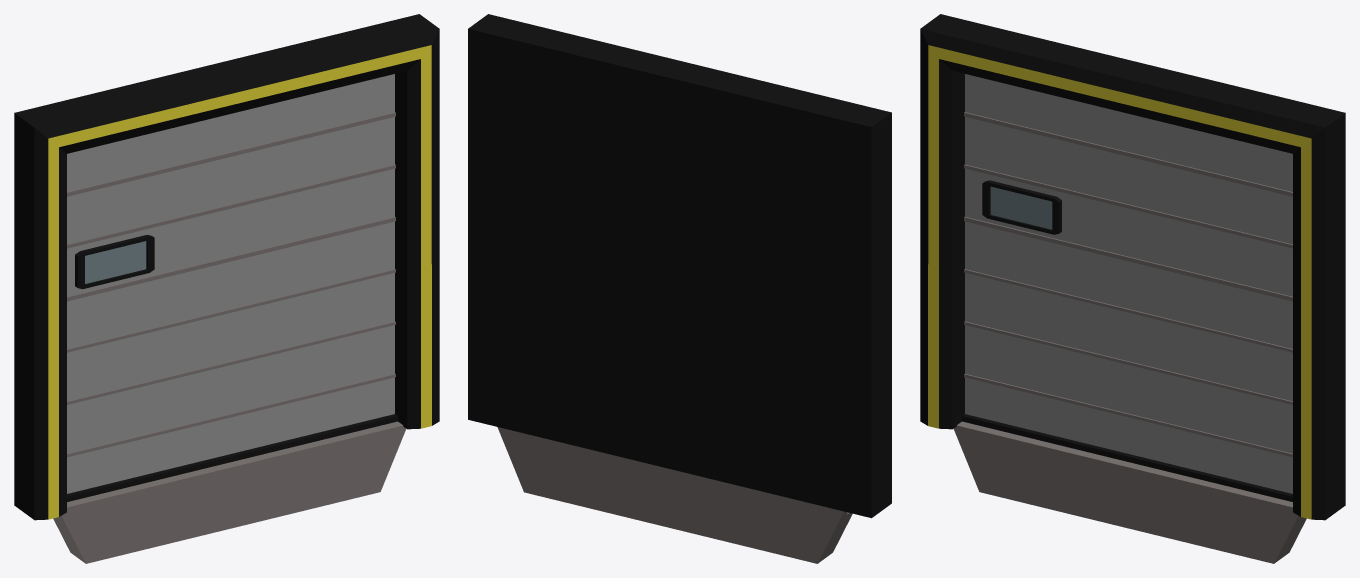
The model's file is loadingBayDoor.fbx.
The picture shows the model from 3 angles, left to right: view 1: azimuth 30°, elevation 25°; view 2: azimuth 150°, elevation 25°; view 3: azimuth 330°, elevation 25°; orthographic projection.
Visible parts, largest first — view 1: Loading Bay Door; view 2: Loading Bay Door; view 3: Loading Bay Door.
Part boxes in pixels (x1,y1,x2,y2): Loading Bay Door: [14, 14, 439, 563]; Loading Bay Door: [468, 14, 891, 563]; Loading Bay Door: [920, 14, 1345, 563].
Size of the model in its own units: 232 by 22.97 by 247.
